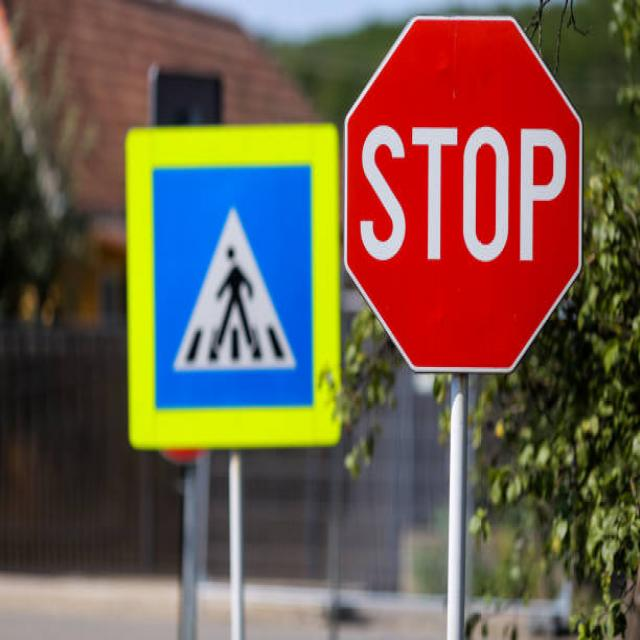stop: (344, 8, 586, 388)
